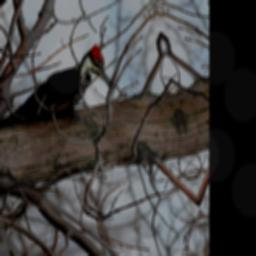Woodpecker: (0, 42, 119, 141)
